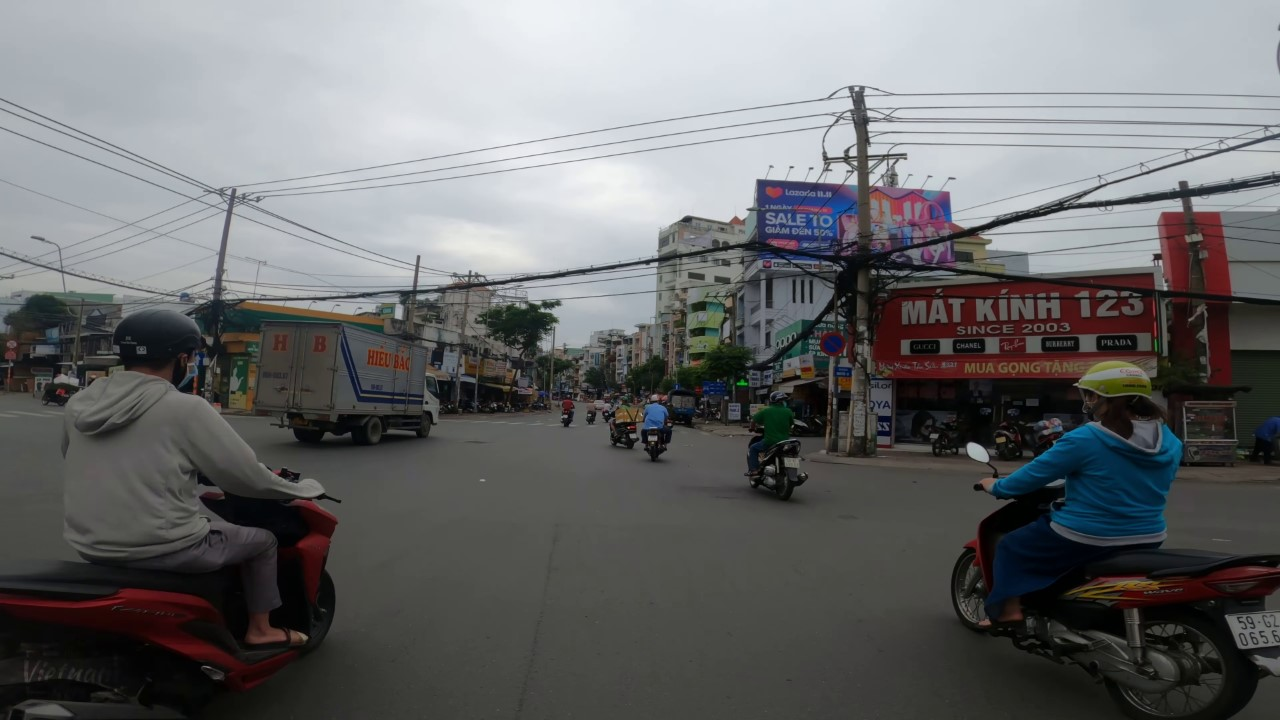cam_do_xe: (817, 329, 849, 359)
